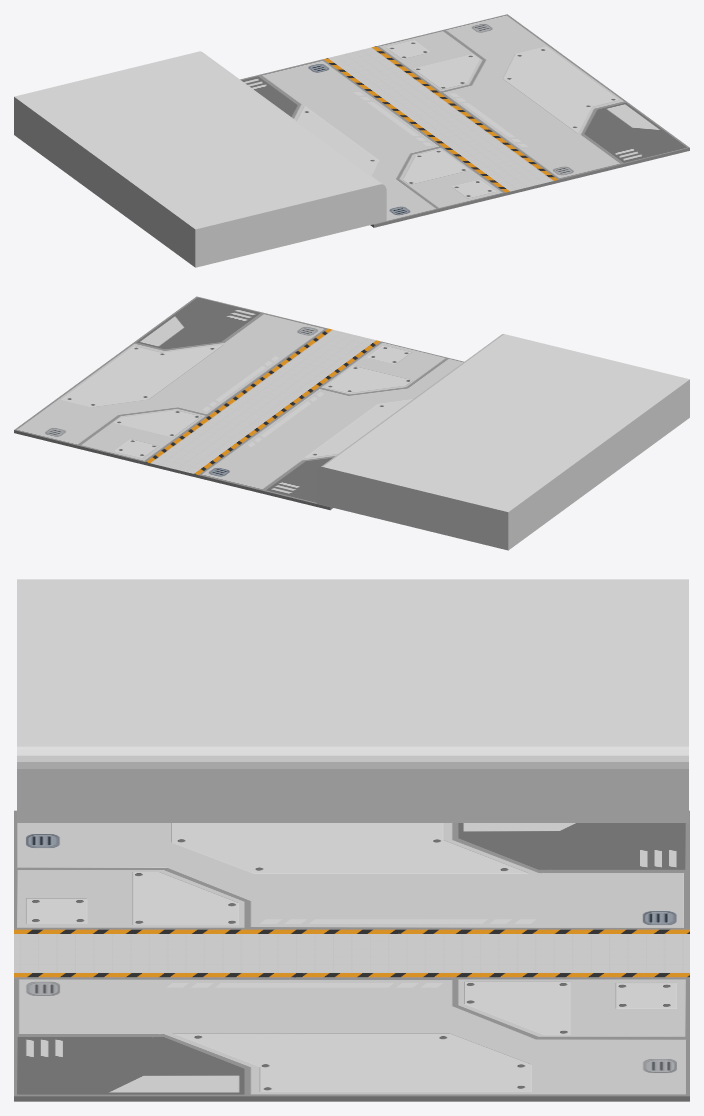
The model's file is ArenaKotak.dae.
3 views of the same model, one above another, from view 1: azimuth 30°, elevation 25°; view 2: azimuth 150°, elevation 25°; view 3: azimuth 270°, elevation 25° (orthographic). The views are drawn at different scales.
Visible parts, largest first — view 1: Plane.001, Cube.003; view 2: Plane.001, Cube.003; view 3: Plane.001, Cube.003.
Part boxes in pixels (x1,y1,x2,y2): Plane.001: [240, 14, 689, 227]; Cube.003: [14, 51, 386, 267]; Plane.001: [14, 296, 463, 510]; Cube.003: [317, 334, 689, 550]; Plane.001: [14, 810, 689, 1101]; Cube.003: [17, 579, 688, 822].
Size of the model in its own units: 78.1 by 50 by 6.23.
Materials: 2 (1 with a texture image).
